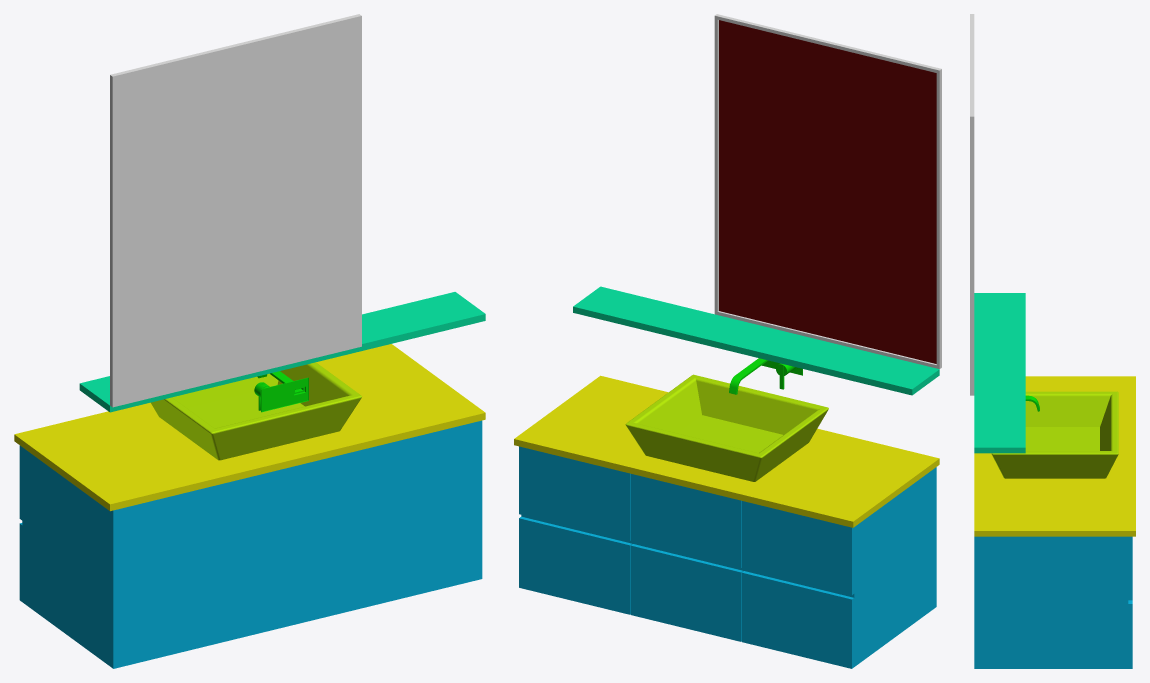
File: OM_1BHK_Bathroom_Washbasin_02.fbx
3 renders of one model, left to right at view 1: azimuth 30°, elevation 25°; view 2: azimuth 150°, elevation 25°; view 3: azimuth 270°, elevation 25°, orthographic. The views are drawn at different scales.
Parts seen in each view (by area): view 1: OM_1BHK_Bathroom_Washbasin_02_Mirror, OM_1BHK_Bathroom_Washbasin_02_Maincage, OM_1BHK_Bathroom_Washbasin_02_Topmarble, OM_1BHK_Bathroom_Washbasin_02_Basin, OM_1BHK_Bathroom_Washbasin_02_Shelf, OM_1BHK_Bathroom_Washbasin_02_Tap; view 2: OM_1BHK_Bathroom_Washbasin_02_Mirror, OM_1BHK_Bathroom_Washbasin_02_Doors, OM_1BHK_Bathroom_Washbasin_02_Topmarble, OM_1BHK_Bathroom_Washbasin_02_Basin, OM_1BHK_Bathroom_Washbasin_02_Maincage, OM_1BHK_Bathroom_Washbasin_02_Shelf, OM_1BHK_Bathroom_Washbasin_02_Tap; view 3: OM_1BHK_Bathroom_Washbasin_02_Maincage, OM_1BHK_Bathroom_Washbasin_02_Topmarble, OM_1BHK_Bathroom_Washbasin_02_Basin, OM_1BHK_Bathroom_Washbasin_02_Shelf, OM_1BHK_Bathroom_Washbasin_02_Mirror, OM_1BHK_Bathroom_Washbasin_02_Doors.
Part boxes in pixels (x1,y1,x2,y2): OM_1BHK_Bathroom_Washbasin_02_Mirror: (110,14,361,407); OM_1BHK_Bathroom_Washbasin_02_Maincage: (22,420,482,668); OM_1BHK_Bathroom_Washbasin_02_Topmarble: (14,344,485,511); OM_1BHK_Bathroom_Washbasin_02_Basin: (151,362,361,460); OM_1BHK_Bathroom_Washbasin_02_Shelf: (79,292,485,412); OM_1BHK_Bathroom_Washbasin_02_Tap: (254,371,308,412); OM_1BHK_Bathroom_Washbasin_02_Mirror: (714,14,941,368); OM_1BHK_Bathroom_Washbasin_02_Doors: (519,446,854,668); OM_1BHK_Bathroom_Washbasin_02_Topmarble: (514,375,939,527); OM_1BHK_Bathroom_Washbasin_02_Basin: (625,374,828,481); OM_1BHK_Bathroom_Washbasin_02_Maincage: (521,467,936,666); OM_1BHK_Bathroom_Washbasin_02_Shelf: (573,286,939,395); OM_1BHK_Bathroom_Washbasin_02_Tap: (729,358,802,394); OM_1BHK_Bathroom_Washbasin_02_Maincage: (974,536,1128,668); OM_1BHK_Bathroom_Washbasin_02_Topmarble: (974,376,1135,536); OM_1BHK_Bathroom_Washbasin_02_Basin: (991,391,1118,478); OM_1BHK_Bathroom_Washbasin_02_Shelf: (974,293,1025,453); OM_1BHK_Bathroom_Washbasin_02_Mirror: (970,14,974,395); OM_1BHK_Bathroom_Washbasin_02_Doors: (1128,536,1132,668).
Size of the model in its own units: 3.57 by 5.4 by 1.62.
